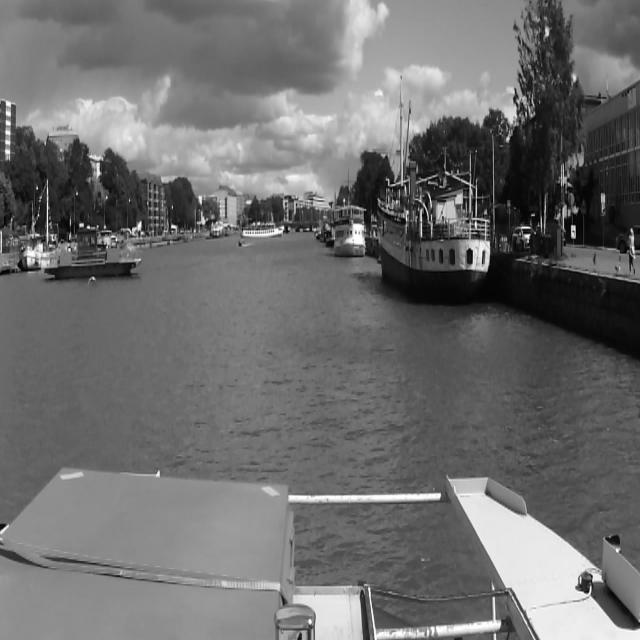ship: (379, 76, 493, 306), (41, 228, 142, 280), (334, 205, 366, 257), (241, 220, 283, 239), (238, 240, 244, 246)
